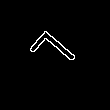L_SE: (25, 26, 85, 84)
